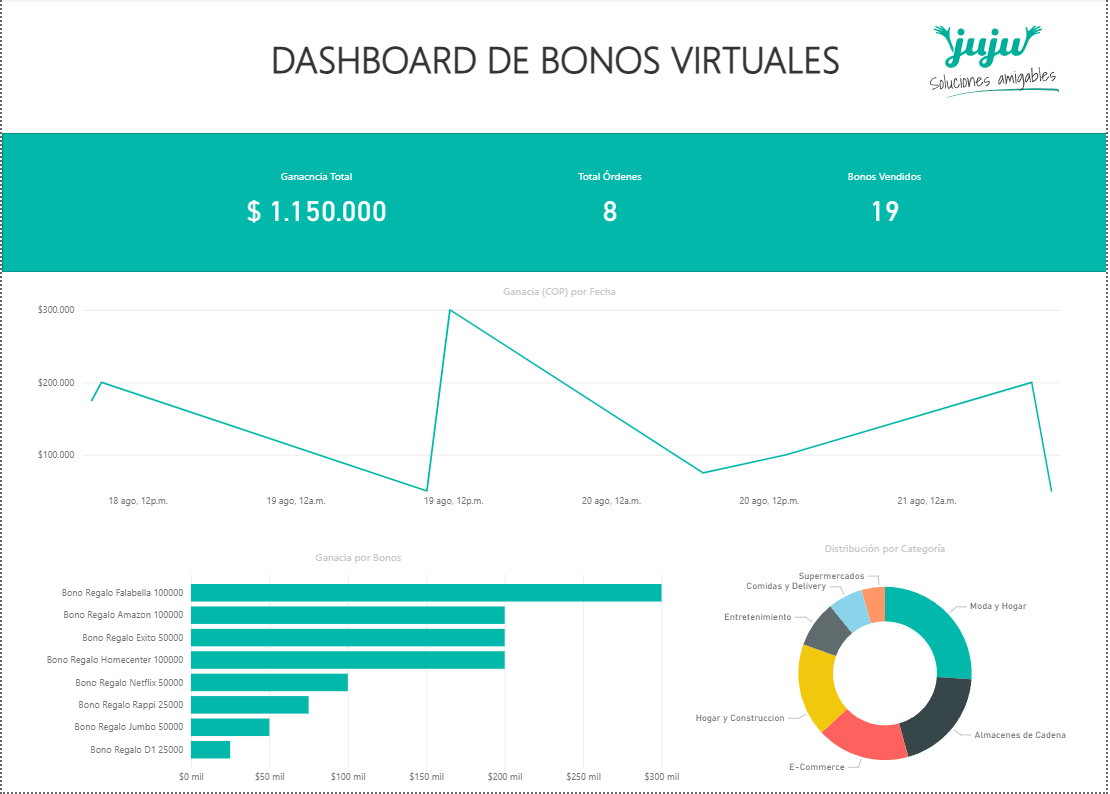

What the dashboard file says about the page in this screenshot:
{"tool":"powerbi","page":{"name":"Página 1","canvas":[1280,920],"ordinal":0},"visuals":[{"type":"shape","box":[0,156.4,1280.4,161.1],"z":0},{"type":"card","title":"Total Órdenes","fields":{"Values":["Count(fact_order.order_id)"]},"box":[620.5,198.1,166.9,77.6],"z":1000},{"type":"card","title":" Ganacncia Total","fields":{"Values":["fact_order.Revenue COP"]},"box":[257.2,198.1,214.4,77.6],"z":2000},{"type":"card","title":"Bonos Vendidos","fields":{"Values":["fact_order.Bonos Vendidos"]},"box":[936.2,198.1,172.6,77.6],"z":3000},{"type":"lineChart","title":"Ganacia (COP) por Fecha","fields":{"Y":["fact_order.Revenue COP"],"Category":["fact_order.created_at"]},"box":[35.9,331.4,1220.1,268.8],"z":4000},{"type":"clusteredBarChart","title":"Ganacia por Bonos","fields":{"Category":["fact_order.product_name"],"Y":["fact_order.Revenue COP"]},"box":[35.9,639.6,754.3,280.4],"z":5000},{"type":"donutChart","title":"Distribución por Categoría","fields":{"Category":["fact_order.category"],"Y":["fact_order.Revenue COP"]},"box":[790.2,629.2,465.8,290.8],"z":6000},{"type":"image","box":[1044,26.6,212,93.9],"z":7000},{"type":"textbox","box":[203.9,35.9,840.1,69.5],"z":8000}]}

Visuals, with their boxes in screenshot pixels (x1, y1, x2, y2), scaled from the page's 1280x920 canvas onto the 1110x794 screenshot:
shape: Rect(0, 135, 1109, 274)
"Total Órdenes" card: Rect(538, 171, 683, 238)
" Ganacncia Total" card: Rect(223, 171, 409, 238)
"Bonos Vendidos" card: Rect(812, 171, 962, 238)
"Ganacia (COP) por Fecha" lineChart: Rect(31, 286, 1089, 518)
"Ganacia por Bonos" clusteredBarChart: Rect(31, 552, 685, 793)
"Distribución por Categoría" donutChart: Rect(685, 543, 1089, 793)
image: Rect(905, 23, 1089, 104)
textbox: Rect(177, 31, 905, 91)
